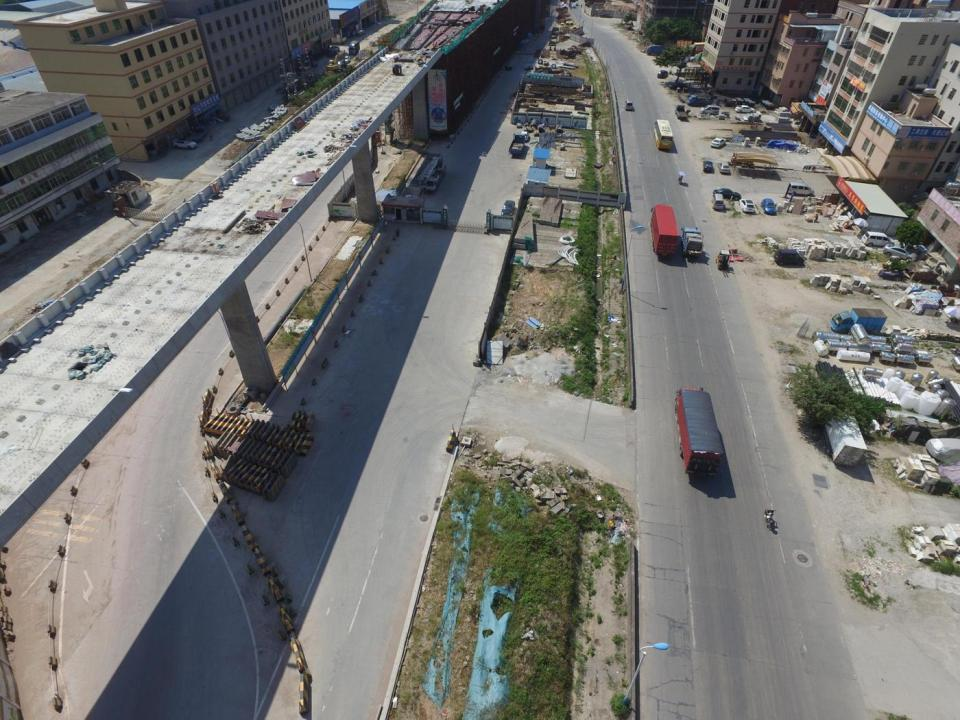bus: (654, 119, 673, 150)
car: (883, 242, 917, 260), (713, 189, 743, 200), (761, 198, 778, 214), (174, 138, 198, 149), (501, 199, 515, 216), (738, 198, 754, 212), (710, 136, 726, 148), (702, 160, 715, 173), (736, 104, 757, 112), (718, 162, 730, 176), (305, 58, 317, 70), (658, 69, 668, 79), (669, 82, 688, 87), (329, 46, 340, 52), (329, 50, 336, 59), (600, 14, 614, 18), (521, 132, 529, 138), (344, 56, 349, 63), (517, 122, 522, 129), (575, 2, 580, 6), (573, 4, 576, 8)
truck: (418, 154, 446, 192)
van: (674, 386, 723, 476), (825, 410, 867, 465), (650, 202, 679, 254), (829, 307, 888, 332), (682, 226, 705, 257), (774, 248, 805, 268), (862, 231, 895, 247), (787, 182, 815, 195), (510, 132, 526, 154), (688, 94, 714, 106), (188, 125, 207, 140), (712, 193, 725, 210), (700, 105, 722, 115), (675, 104, 688, 120), (647, 44, 670, 53), (348, 40, 360, 56), (625, 100, 633, 111), (358, 29, 366, 35)
